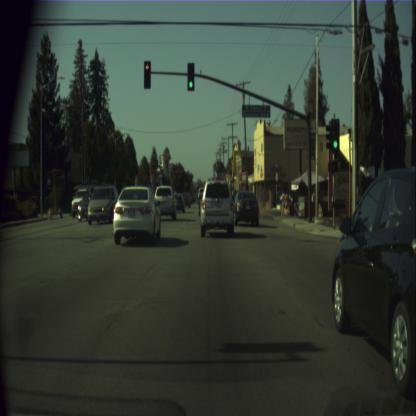Green: (330, 118, 338, 153), (187, 62, 194, 90)
RedLeft: (144, 61, 150, 88)
